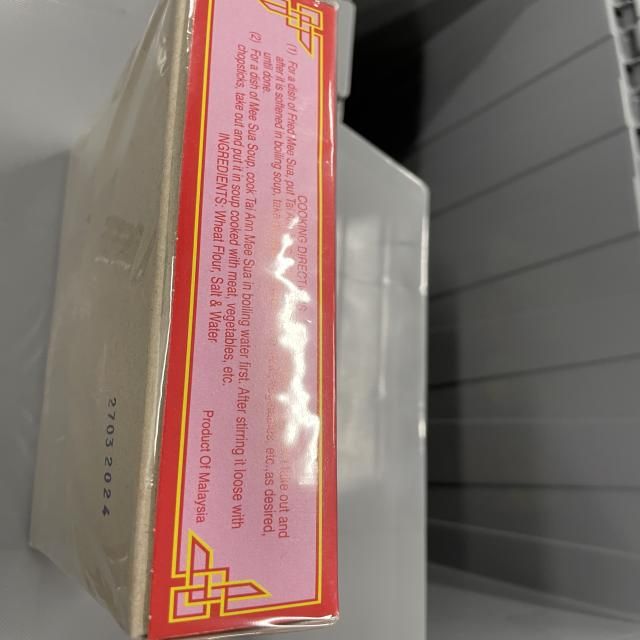object_name: (66, 5, 343, 623)
